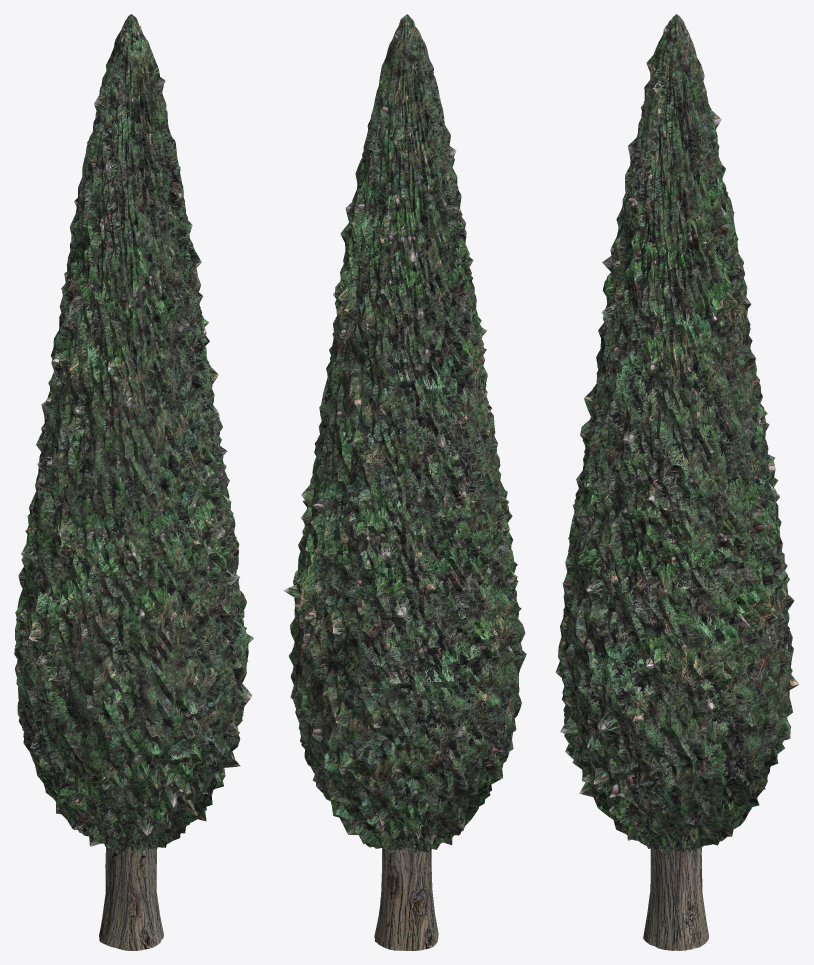
File: tree_cypress.glb
3 renders of one model, left to right at view 1: azimuth 30°, elevation 25°; view 2: azimuth 150°, elevation 25°; view 3: azimuth 270°, elevation 25°, orthographic.
Visible parts, largest first — view 1: Object_2, Object_3; view 2: Object_2, Object_3; view 3: Object_2, Object_3.
Boxes of the visible parts, x1,y1,x2,y2 form: Object_2: [14, 14, 253, 855]; Object_3: [99, 846, 163, 950]; Object_2: [283, 14, 526, 853]; Object_3: [374, 846, 438, 950]; Object_2: [555, 14, 799, 856]; Object_3: [643, 847, 708, 950].
Size of the model in its own units: 132 by 560 by 134.
2 materials, 2 textured.
